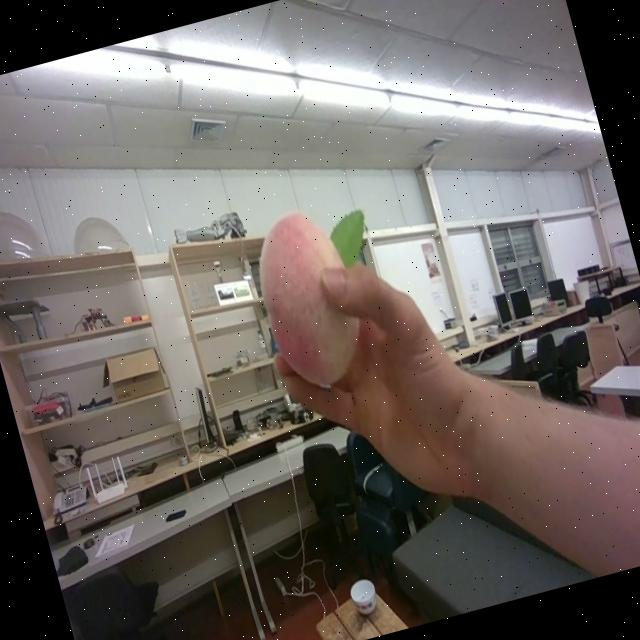peach: (259, 210, 364, 386)
